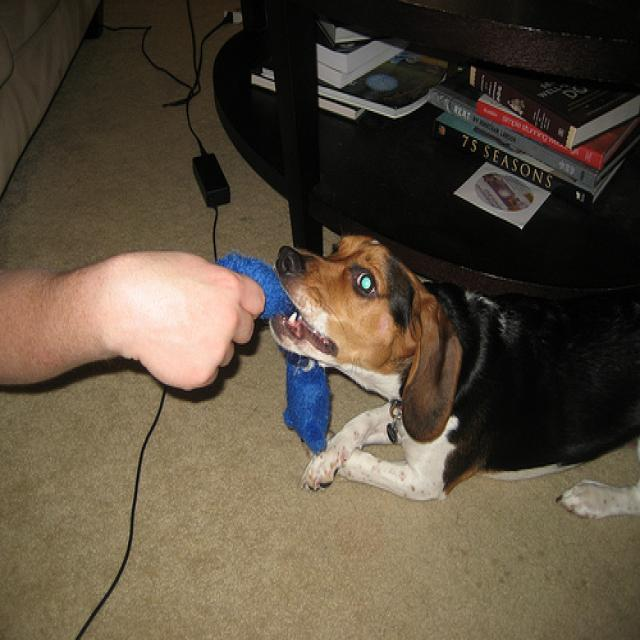dog-beagle: (268, 225, 637, 500)
